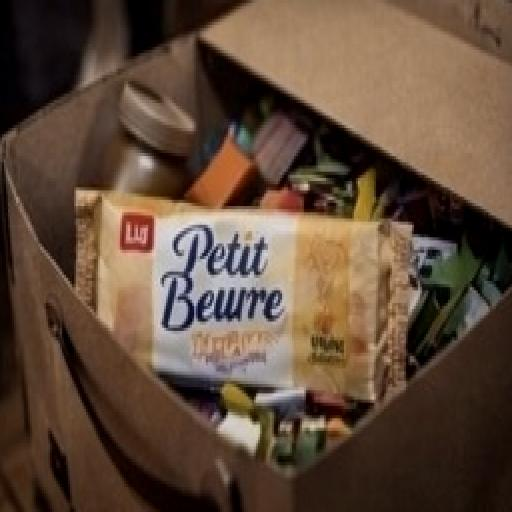petit-beurre: (50, 121, 439, 466)
